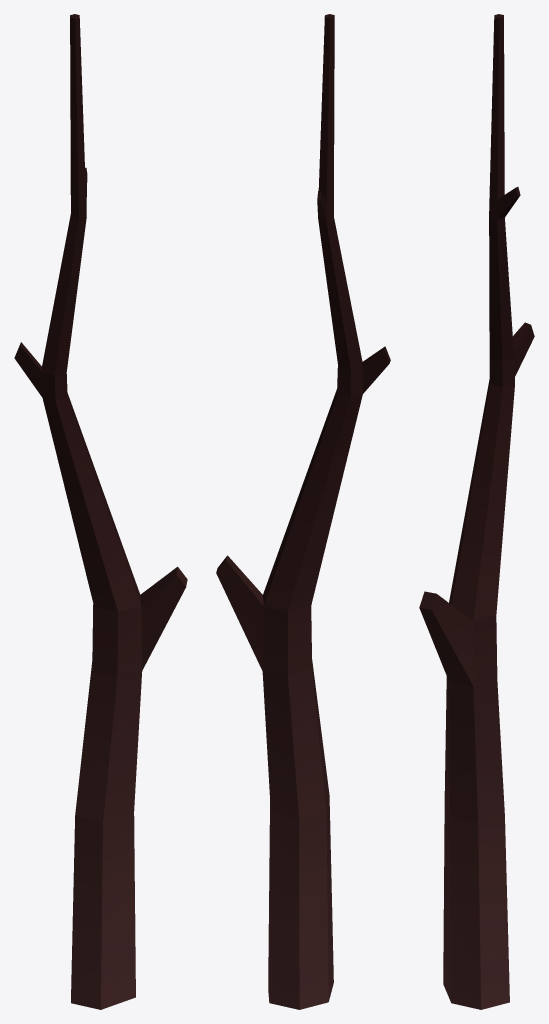
Rendered from Gradient_Tree_Dead_5_small.glb.
3 renders of one model, left to right at view 1: azimuth 30°, elevation 25°; view 2: azimuth 210°, elevation 25°; view 3: azimuth 270°, elevation 25°, orthographic.
Parts seen in each view (by area): view 1: Dead tree 5 small g; view 2: Dead tree 5 small g; view 3: Dead tree 5 small g.
Part boxes in pixels (x1,y1,x2,y2): Dead tree 5 small g: (14,14,187,1009); Dead tree 5 small g: (216,14,390,1009); Dead tree 5 small g: (419,14,534,1009).
Size of the model in its own units: 1.31 by 9.74 by 1.05.
Materials: 1 (1 with a texture image).
